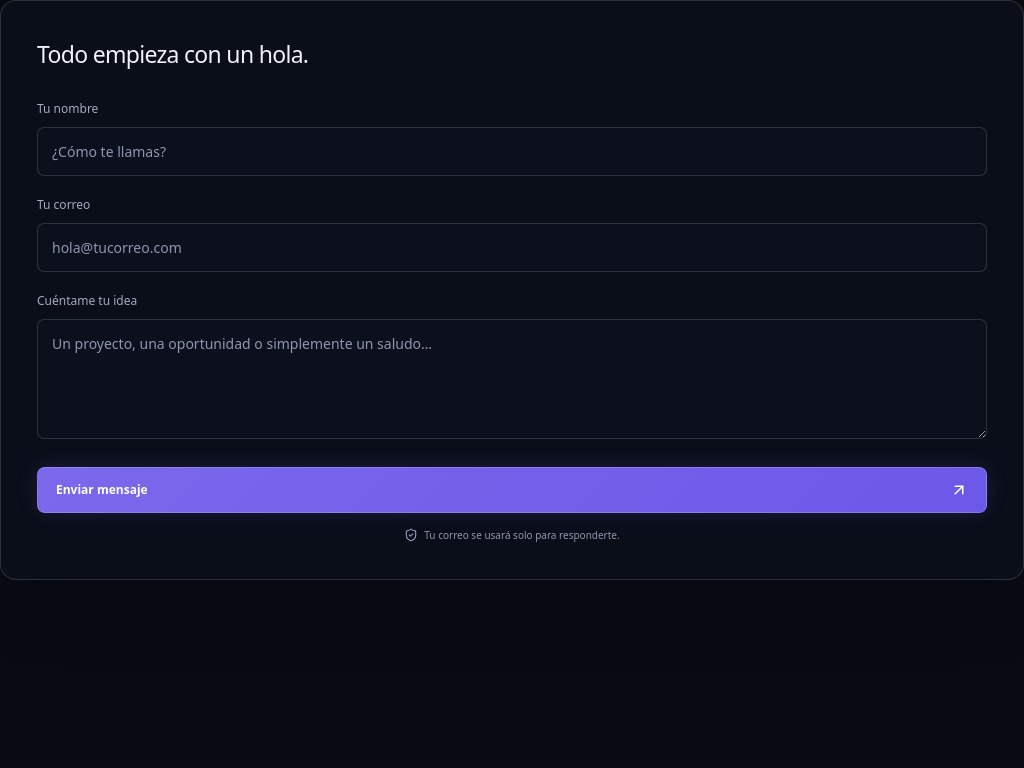
it: ContactForm › preserves the message and announces service errors
The image size is (1024, 768).
Type "Andrea" into the field labelled "Tu nombre" at coordinates (512, 151), box [37,126,987,176]
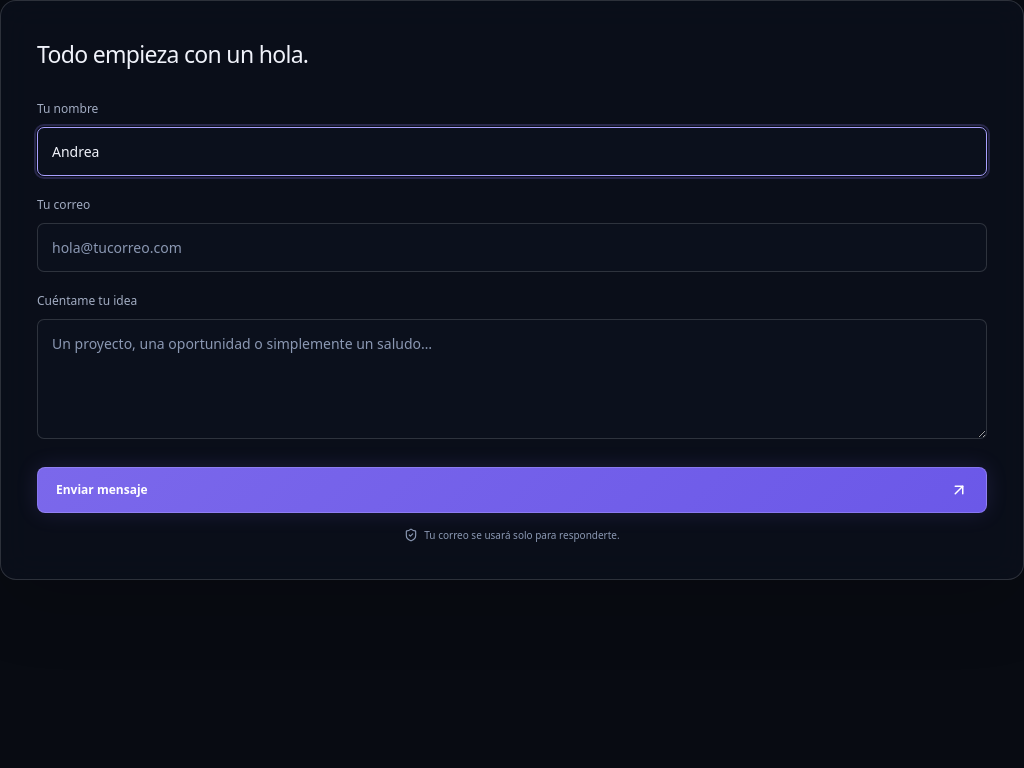
Type "andrea@example.com" into the field labelled "Tu correo" at coordinates (512, 247), box [37,222,987,272]
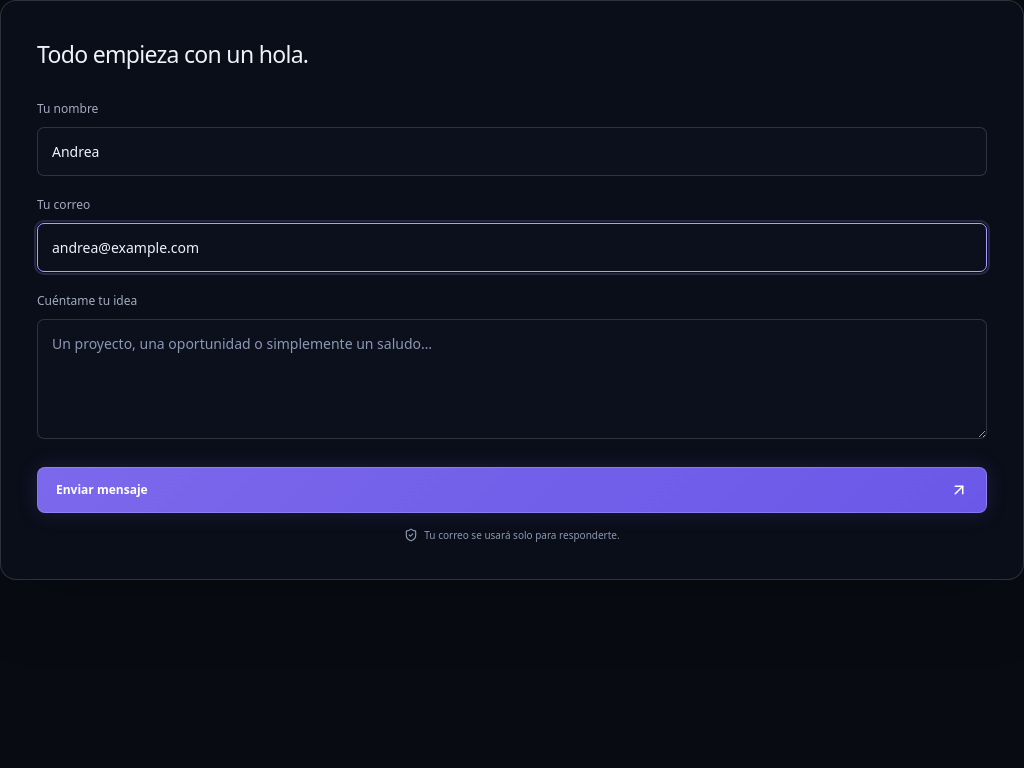
Type "Me gustaría construir una aplicación web." into the text box labelled "Cuéntame tu idea" at coordinates (512, 378), box [37,318,987,438]
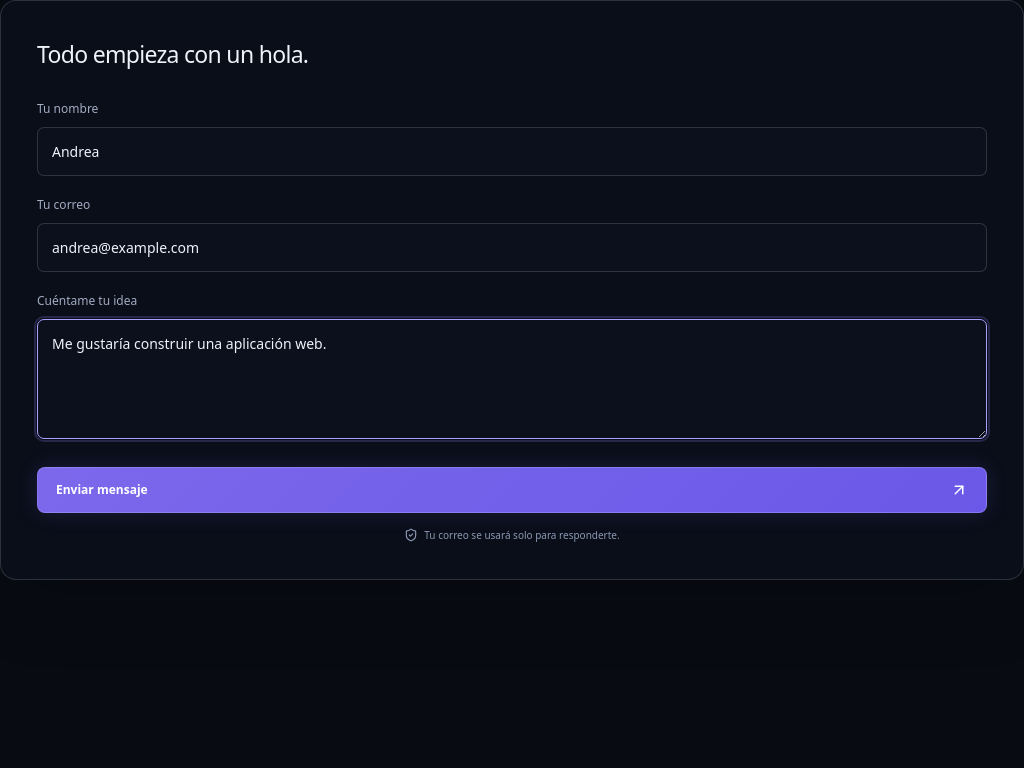
Click the button "Enviar mensaje" at coordinates (102, 489), box [37,466,987,512]
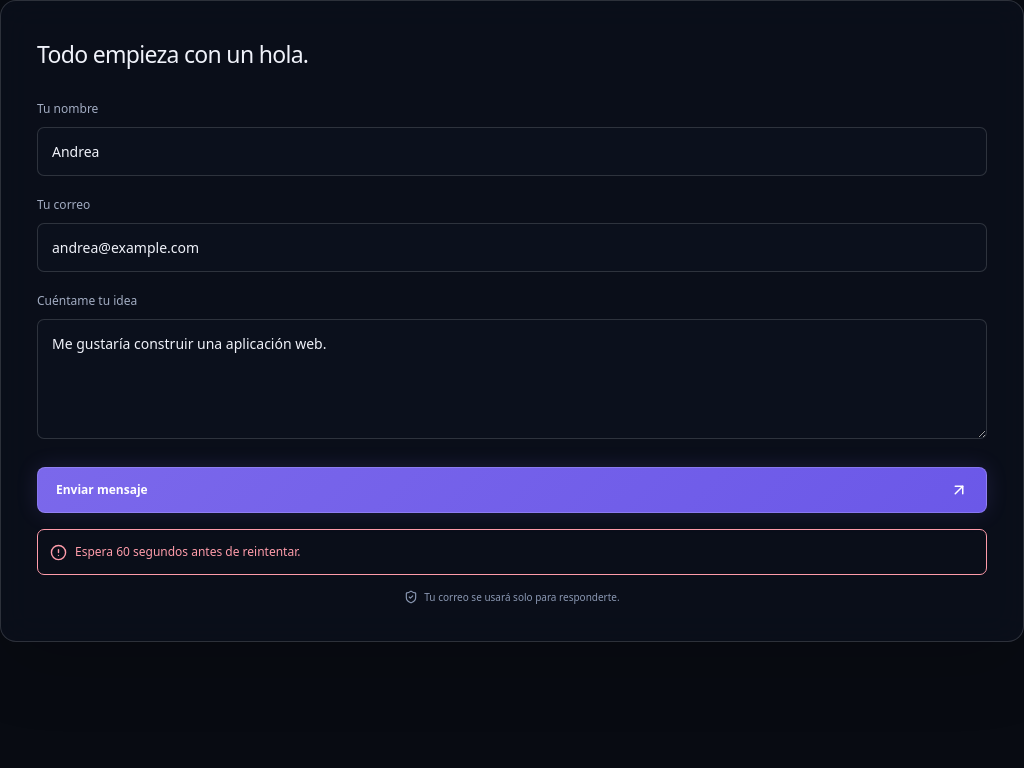
expect the message shows "Espera 60 segundos": met, box [75,542,300,560]
